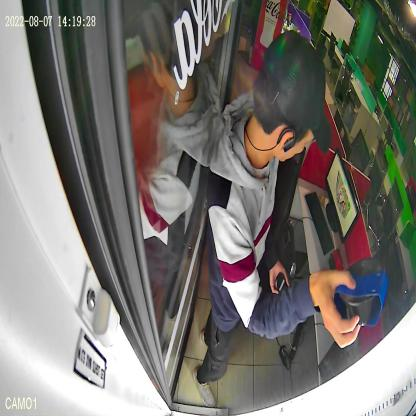blue: (334, 258, 387, 326)
